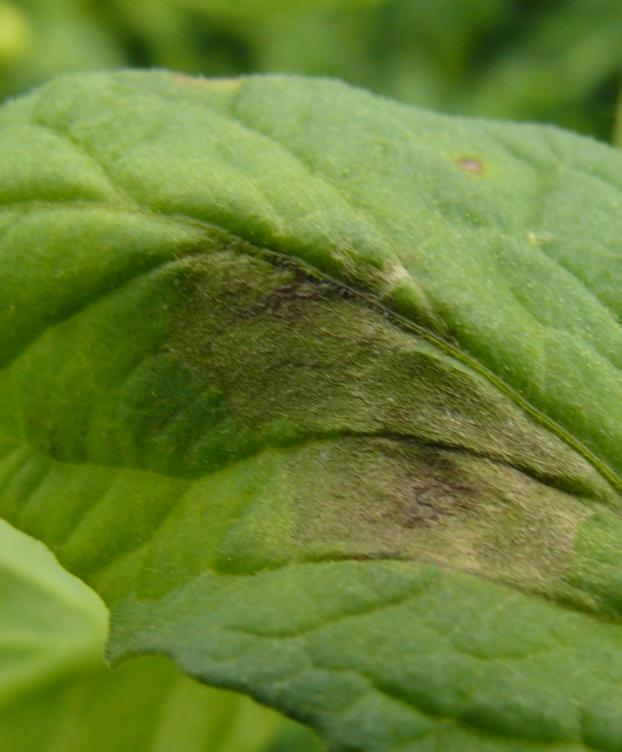Tomato leaf late blight: (0, 55, 622, 752)
